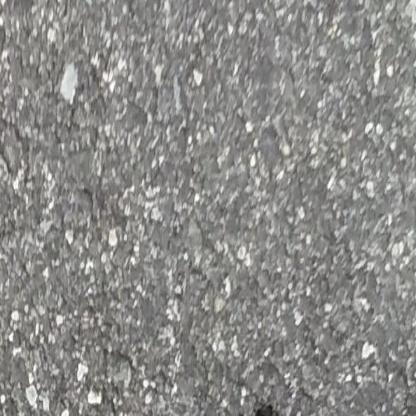Cracks: (241, 399, 294, 416)
